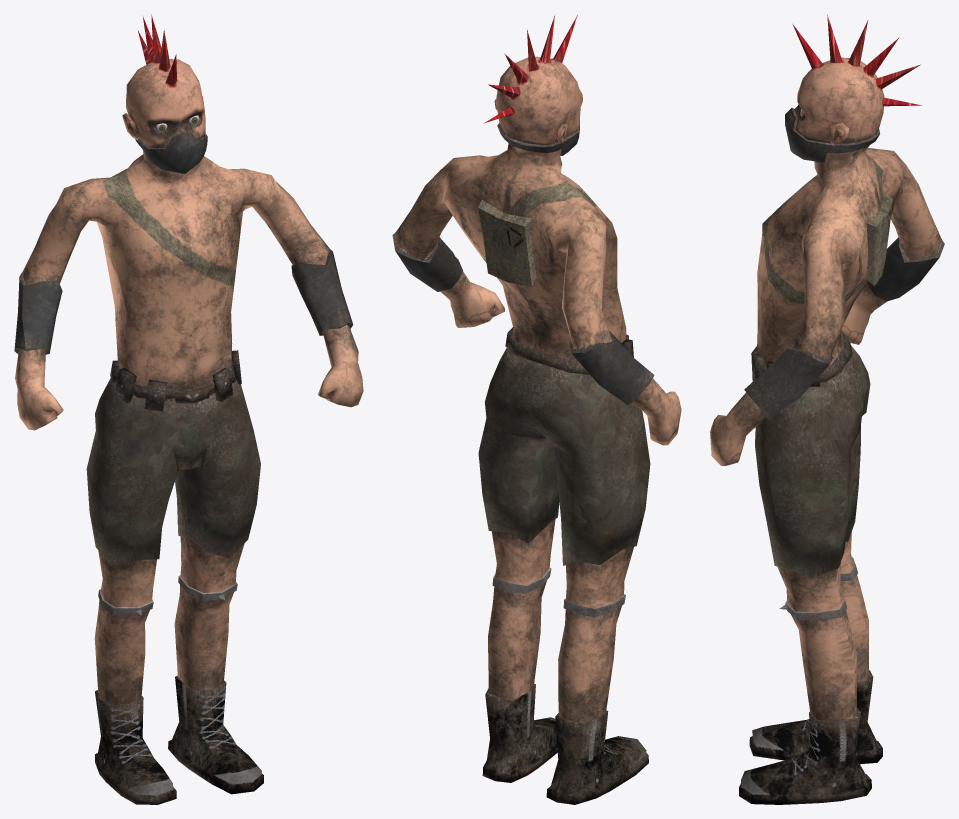
File: Anim_ataque_d1_npc2.0013.obj
3 views of the same model, side by side, from view 1: azimuth 30°, elevation 25°; view 2: azimuth 150°, elevation 25°; view 3: azimuth 270°, elevation 25° (orthographic). The views are drawn at different scales.
Parts seen in each view (by area): view 1: polySurface1; view 2: polySurface1; view 3: polySurface1.
Part boxes in pixels (<box>): polySurface1: <box>14,14,363,804</box>; polySurface1: <box>392,15,681,804</box>; polySurface1: <box>710,14,944,804</box>.
Size of the model in its own units: 4.17 by 10.13 by 2.84.
2 materials, 2 textured.
